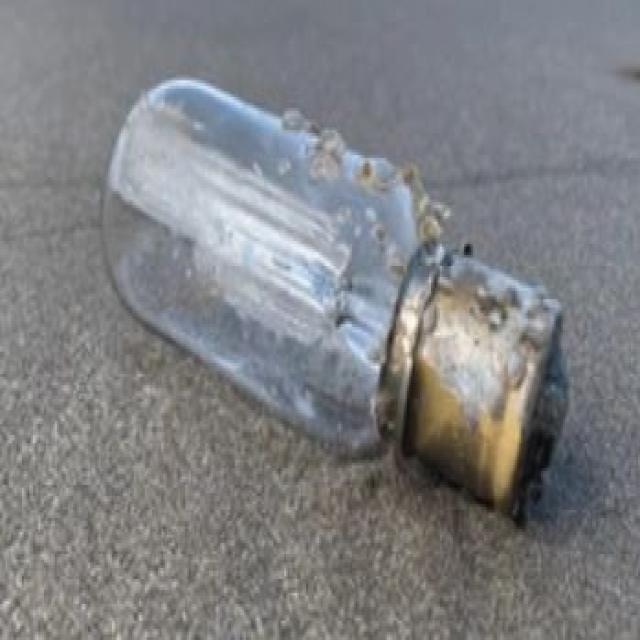electronic: (99, 72, 570, 524)
